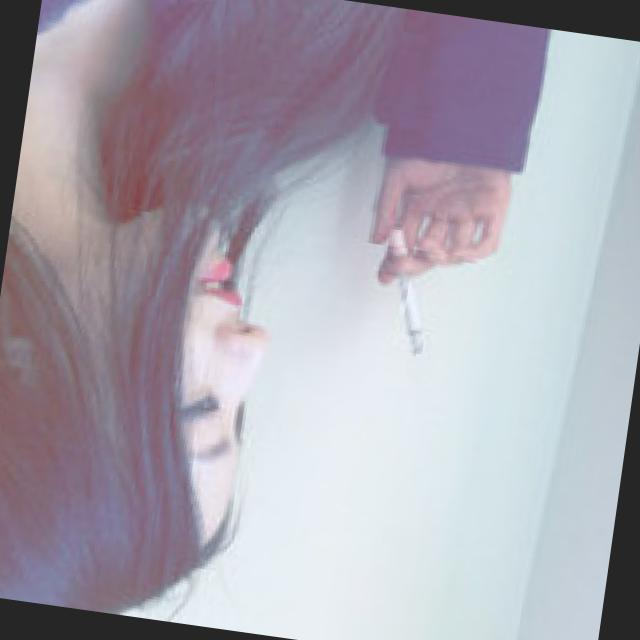cigarette: (372, 228, 443, 358)
